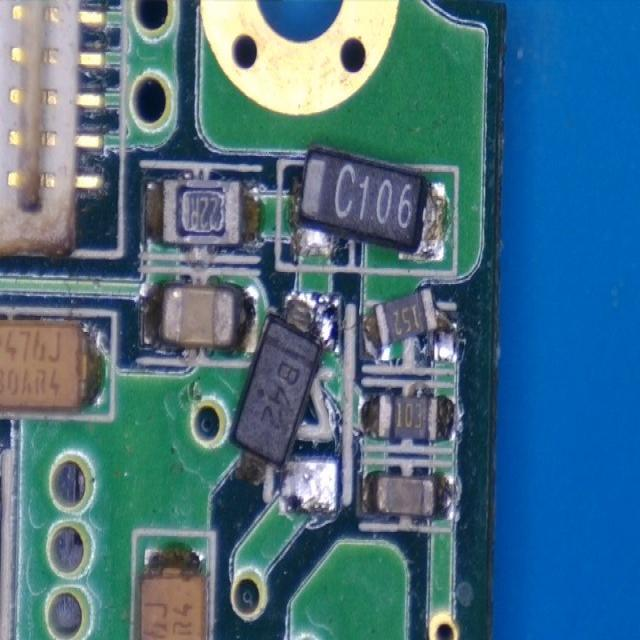Incorrect_installation: (230, 292, 342, 514), (290, 148, 446, 260), (363, 286, 457, 364)
